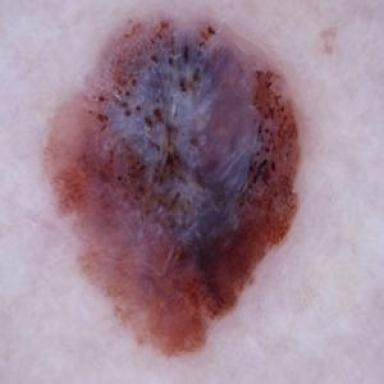Melanoma: (44, 19, 299, 354)
